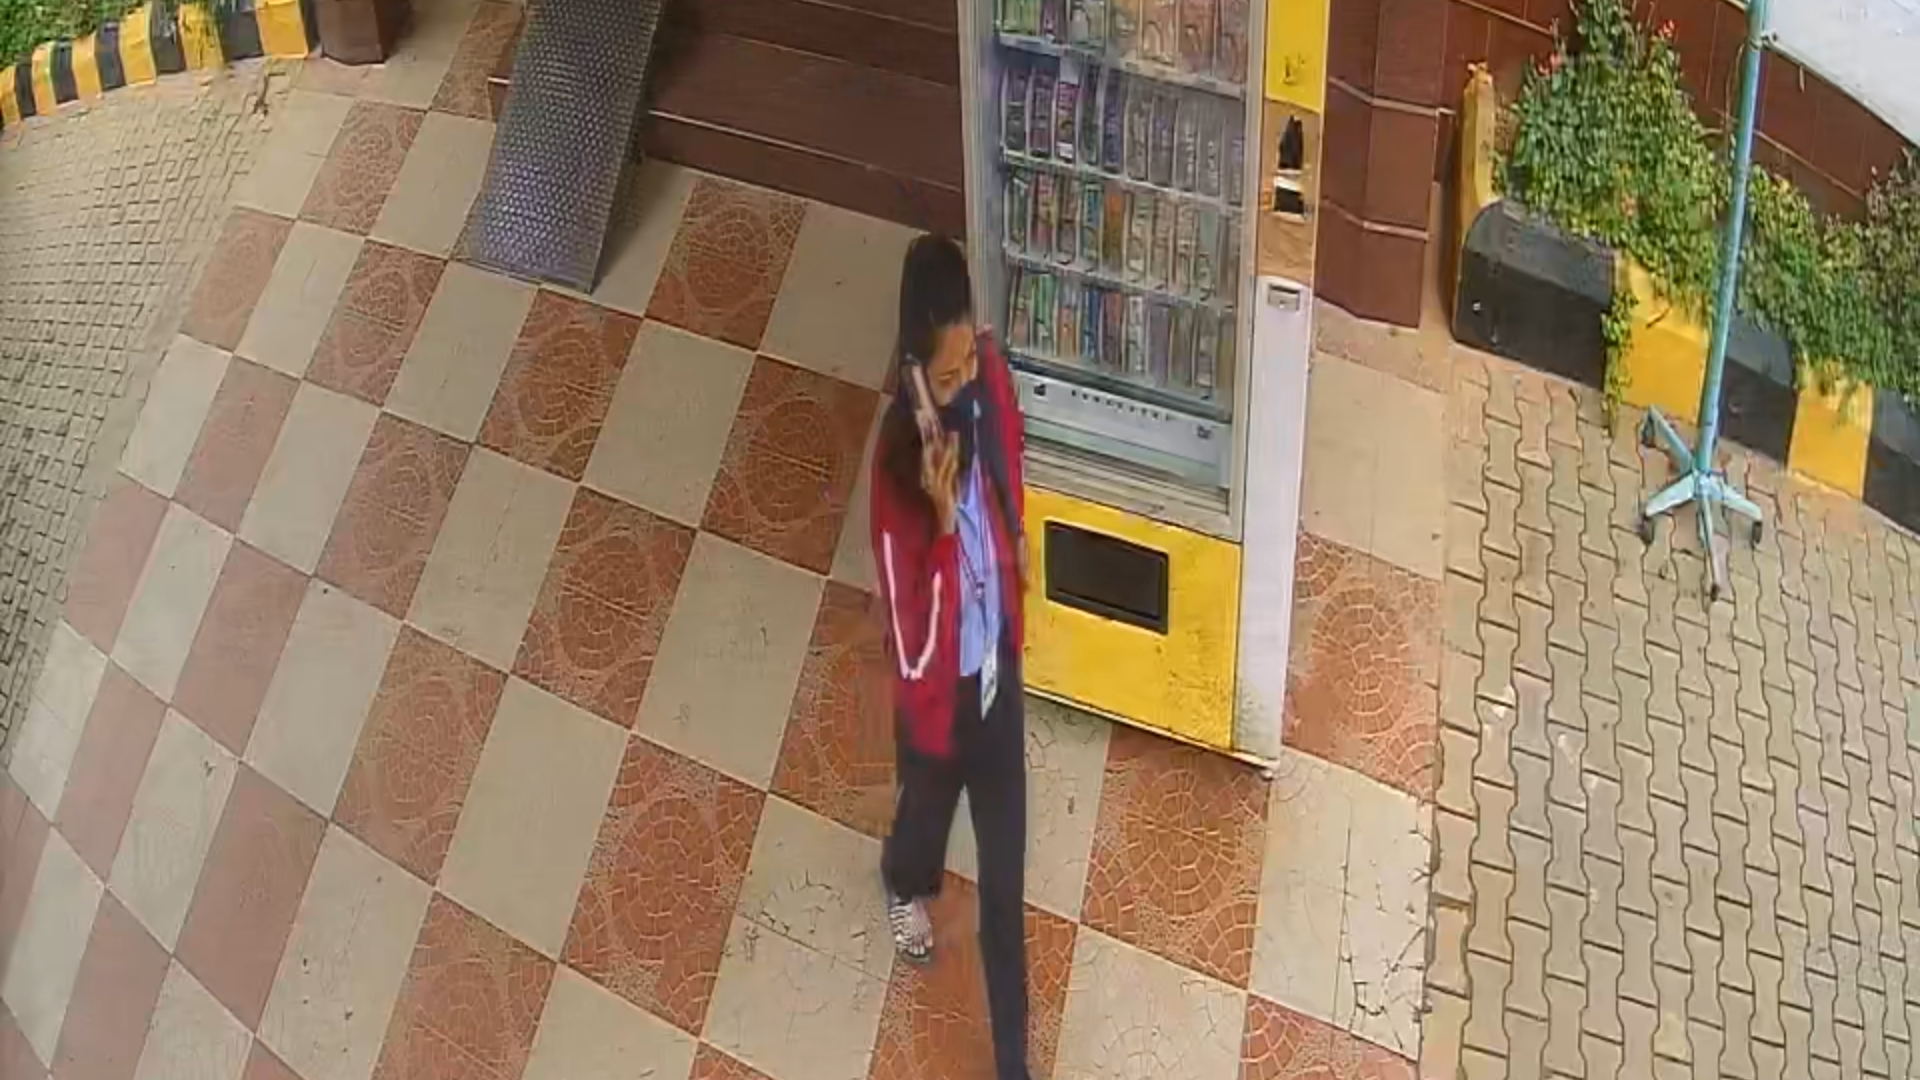not intruder: (868, 241, 1062, 1080)
